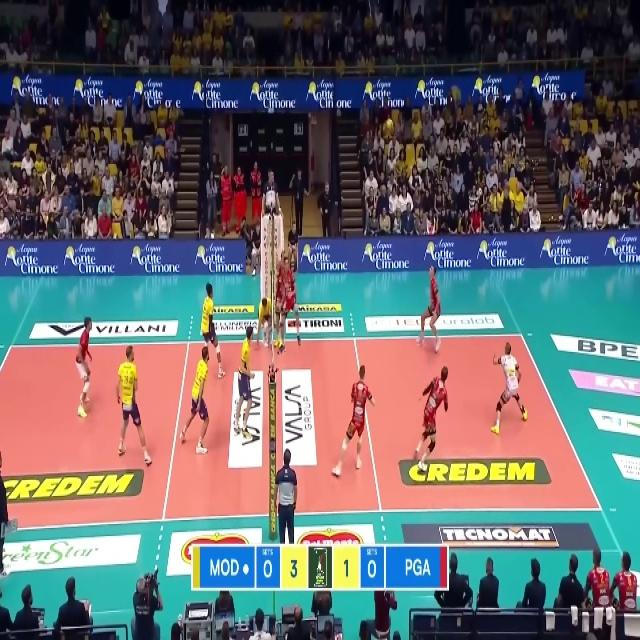volleyball court: (0, 333, 605, 523)
